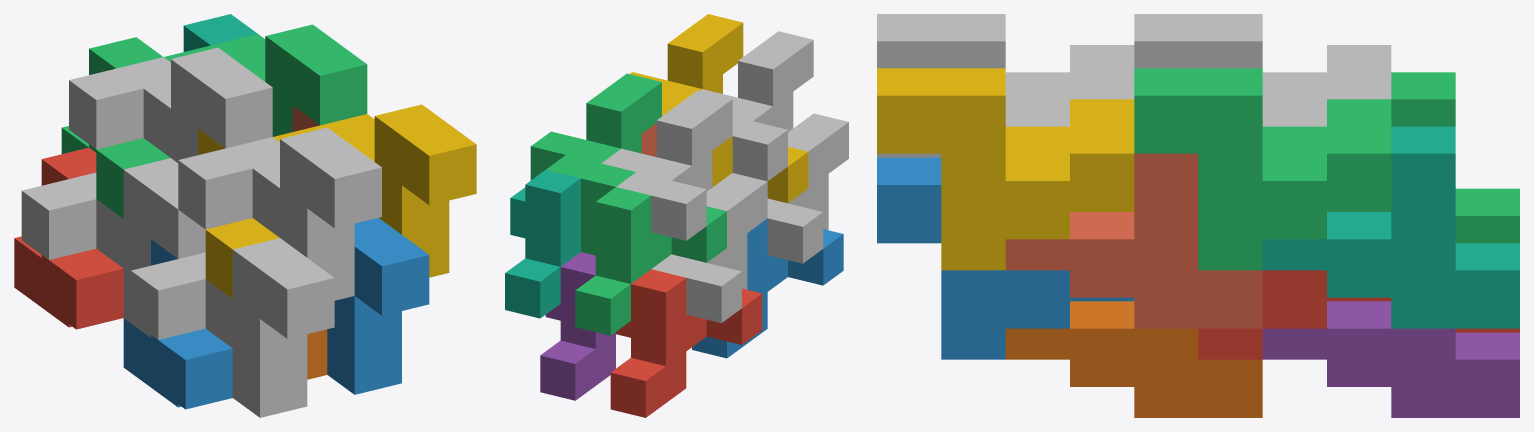
File: tiling.obj
3 renders of one model, left to right at view 1: azimuth 30°, elevation 25°; view 2: azimuth 150°, elevation 25°; view 3: azimuth 270°, elevation 25°, orthographic. The views are drawn at different scales.
Parts seen in each view (by area): view 1: copy_2_domain_2, copy_2_domain_4, copy_2_domain_3, copy_2_domain_1, copy_2_domain_8, copy_2_domain_6, copy_2_domain_7, copy_1_domain_1, copy_1_domain_2, copy_1_domain_3, copy_1_domain_4, copy_1_domain_7 (+1 smaller); view 2: copy_1_domain_1, copy_1_domain_3, copy_2_domain_3, copy_2_domain_4, copy_2_domain_7, copy_1_domain_7, copy_2_domain_1, copy_2_domain_2, copy_1_domain_5, copy_2_domain_8, copy_1_domain_2, copy_1_domain_4 (+1 smaller); view 3: copy_2_domain_7, copy_2_domain_8, copy_1_domain_7, copy_1_domain_8, copy_1_domain_5, copy_1_domain_6, copy_2_domain_6, copy_2_domain_3, copy_2_domain_4, copy_1_domain_3, copy_2_domain_5.
Part boxes in pixels (x1=…): copy_2_domain_2: x1=131, y1=238, x2=334, y2=417; copy_2_domain_4: x1=178, y1=127, x2=381, y2=300; copy_2_domain_3: x1=69, y1=47, x2=272, y2=162; copy_2_domain_1: x1=21, y1=158, x2=205, y2=337; copy_2_domain_8: x1=273, y1=104, x2=476, y2=277; copy_2_domain_6: x1=327, y1=218, x2=429, y2=394; copy_2_domain_7: x1=164, y1=24, x2=367, y2=136; copy_1_domain_1: x1=14, y1=147, x2=123, y2=329; copy_1_domain_2: x1=123, y1=239, x2=232, y2=409; copy_1_domain_3: x1=61, y1=37, x2=170, y2=218; copy_1_domain_4: x1=198, y1=129, x2=279, y2=298; copy_1_domain_7: x1=183, y1=14, x2=257, y2=51; copy_1_domain_1: x1=610, y1=269, x2=762, y2=417; copy_1_domain_3: x1=575, y1=187, x2=726, y2=335; copy_2_domain_3: x1=601, y1=90, x2=732, y2=240; copy_2_domain_4: x1=700, y1=31, x2=813, y2=181; copy_2_domain_7: x1=530, y1=73, x2=661, y2=218; copy_1_domain_7: x1=505, y1=170, x2=580, y2=318; copy_2_domain_1: x1=651, y1=173, x2=767, y2=322; copy_2_domain_2: x1=767, y1=113, x2=848, y2=263; copy_1_domain_5: x1=540, y1=252, x2=615, y2=400; copy_2_domain_8: x1=630, y1=14, x2=743, y2=115; copy_1_domain_2: x1=692, y1=218, x2=843, y2=358; copy_1_domain_4: x1=712, y1=136, x2=808, y2=203; copy_2_domain_7: x1=1134, y1=68, x2=1391, y2=270; copy_2_domain_8: x1=877, y1=68, x2=1134, y2=270; copy_1_domain_7: x1=1262, y1=126, x2=1519, y2=328; copy_1_domain_8: x1=1005, y1=153, x2=1262, y2=328; copy_1_domain_5: x1=1262, y1=301, x2=1519, y2=417; copy_1_domain_6: x1=1005, y1=301, x2=1262, y2=417; copy_2_domain_6: x1=877, y1=157, x2=1134, y2=359; copy_2_domain_3: x1=1134, y1=14, x2=1391, y2=126; copy_2_domain_4: x1=877, y1=14, x2=1134, y2=126; copy_1_domain_3: x1=1391, y1=72, x2=1519, y2=243; copy_2_domain_5: x1=1198, y1=270, x2=1391, y2=359.
Bounding box in the file's own units: 6 × 6 × 10.
